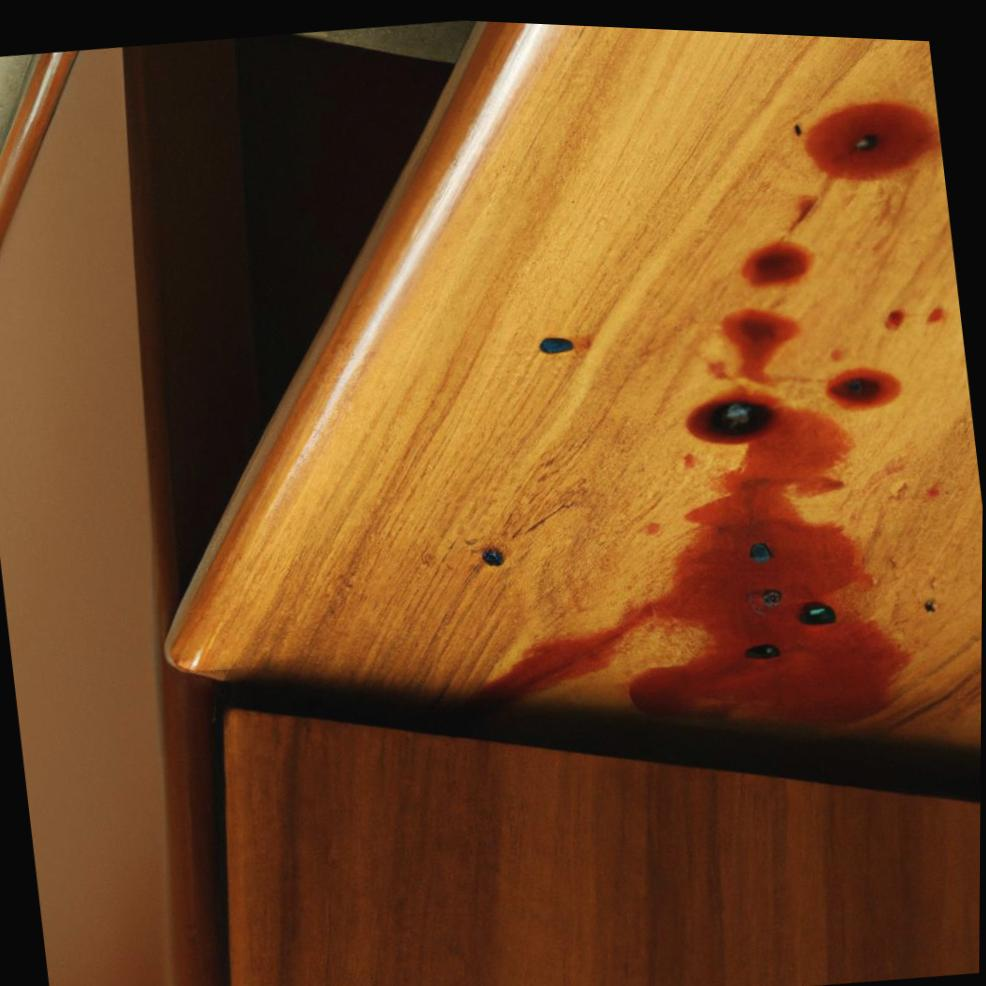Fire: (473, 378, 917, 725), (804, 95, 941, 174), (706, 301, 814, 383), (740, 235, 816, 282), (884, 302, 904, 324), (926, 300, 945, 315)
